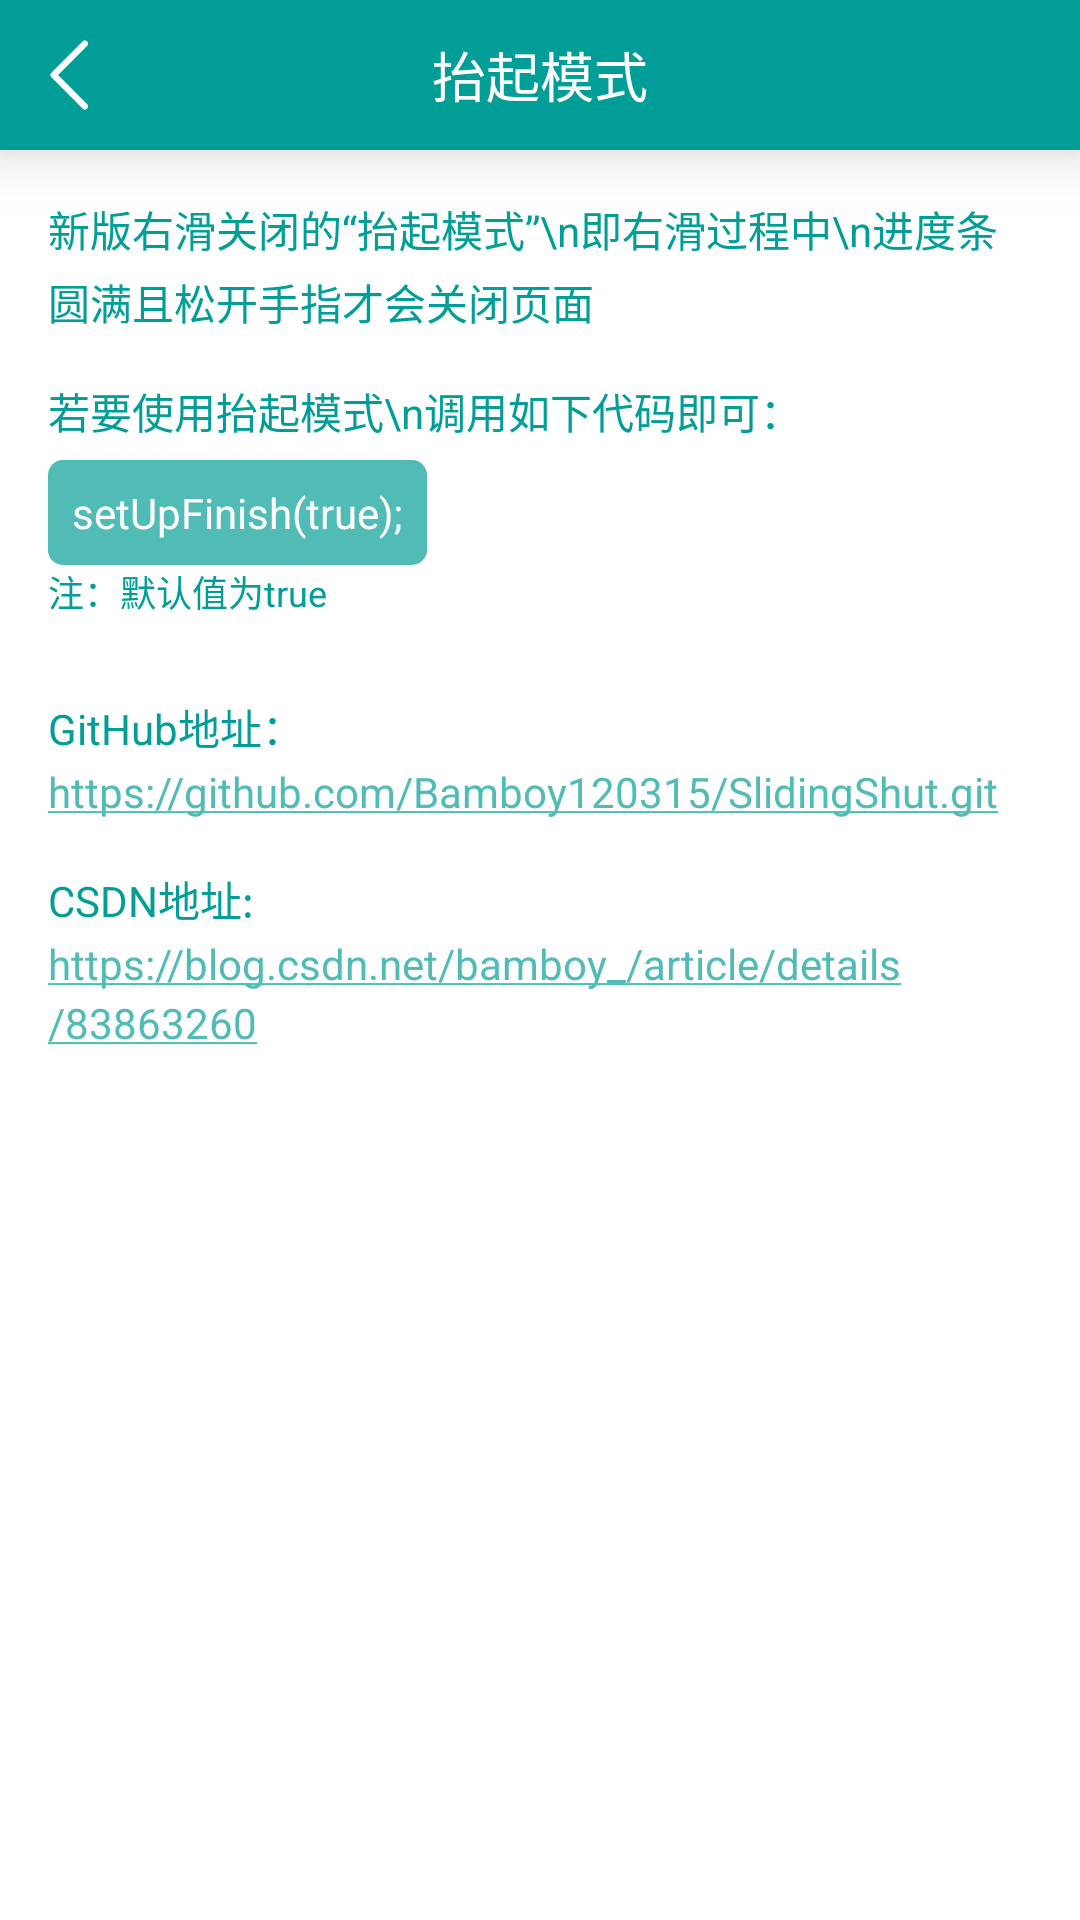

Icons on this 1080w x 1920h Android screen, each with its box as (x1, y1, x2, y2):
back: (50, 40, 88, 110)
